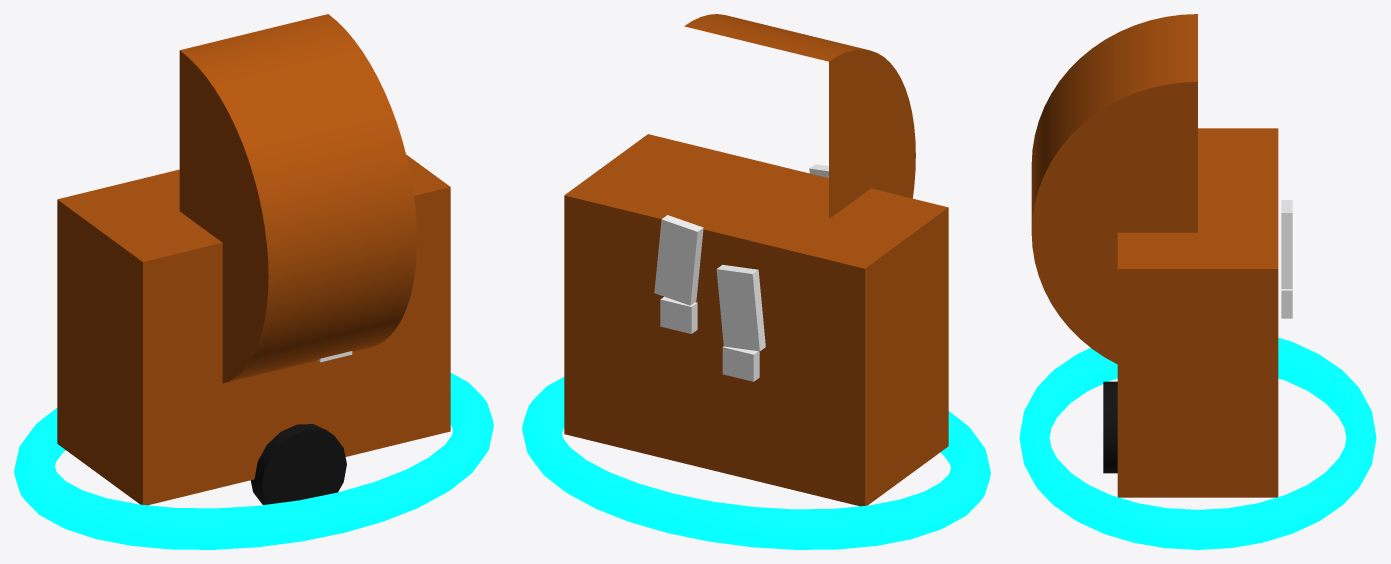
The model's file is footstep_token.glb.
The picture shows the model from 3 angles, left to right: view 1: azimuth 30°, elevation 25°; view 2: azimuth 150°, elevation 25°; view 3: azimuth 270°, elevation 25°; orthographic projection. The views are drawn at different scales.
Visible parts, largest first — view 1: footstep_token, selection_glow; view 2: footstep_token, selection_glow; view 3: footstep_token, selection_glow.
Boxes of the visible parts, x1,y1,x2,y2 form: footstep_token: (57,14,450,505); selection_glow: (14,373,493,549); footstep_token: (564,14,948,506); selection_glow: (522,377,990,549); footstep_token: (1031,14,1292,497); selection_glow: (1019,337,1376,549).
Bounding box in the file's own units: 0.83 × 0.81 × 0.6225.
